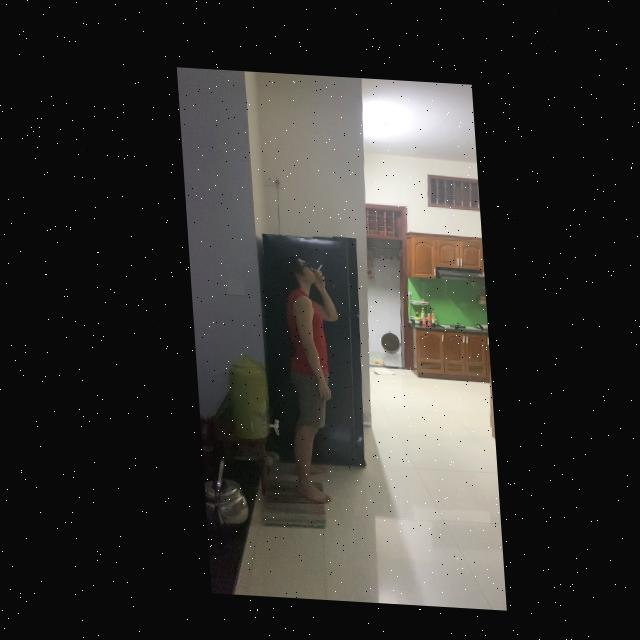cigarette: (310, 260, 318, 270)
